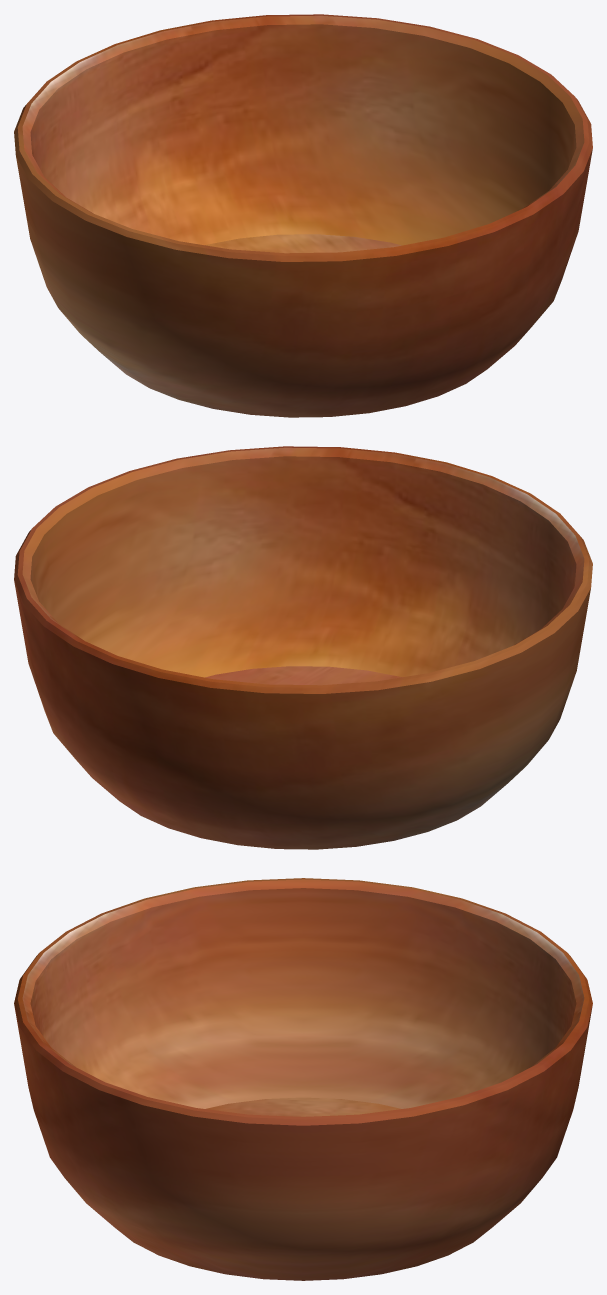
The model's file is Mangkok.fbx.
3 views of the same model, one above another, from view 1: azimuth 30°, elevation 25°; view 2: azimuth 150°, elevation 25°; view 3: azimuth 270°, elevation 25° (orthographic).
Visible parts, largest first — view 1: mangkok; view 2: mangkok; view 3: mangkok.
Part boxes in pixels (x1,y1,x2,y2): mangkok: [14, 14, 592, 417]; mangkok: [14, 446, 592, 849]; mangkok: [14, 878, 592, 1280].
Size of the model in its own units: 356 by 133 by 356.
